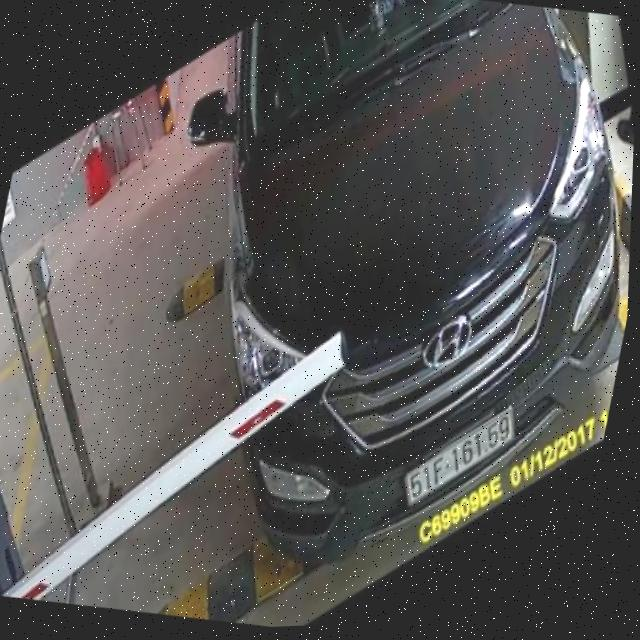car: (92, 0, 640, 622)
plate: (394, 390, 521, 522)
